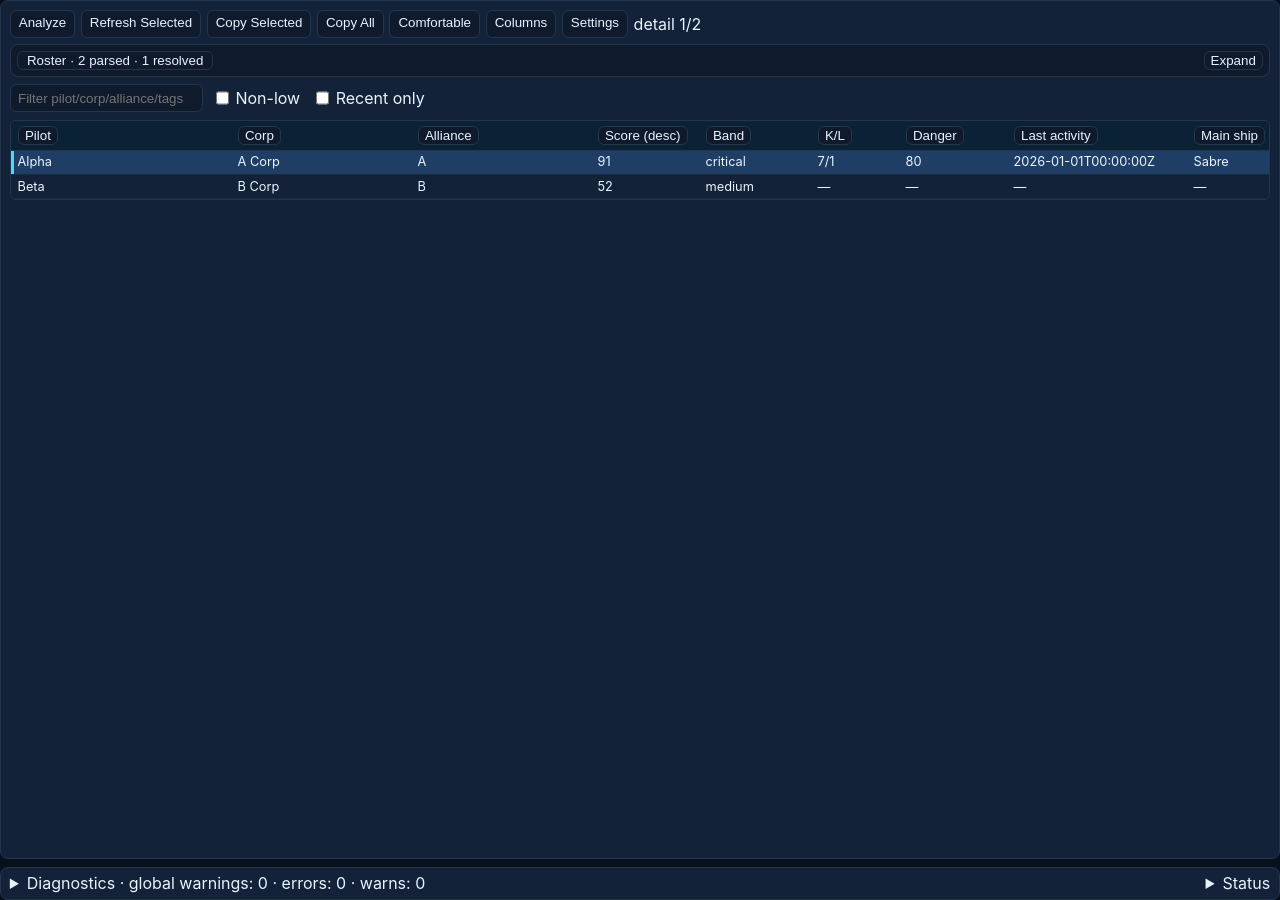
Test case: LocalScreen › drawer expands and collapses showing parse details
The width and height of the screenshot is (1280, 900).
Click the button with test id "roster-toggle": click(1233, 60) [1204,51,1263,70]
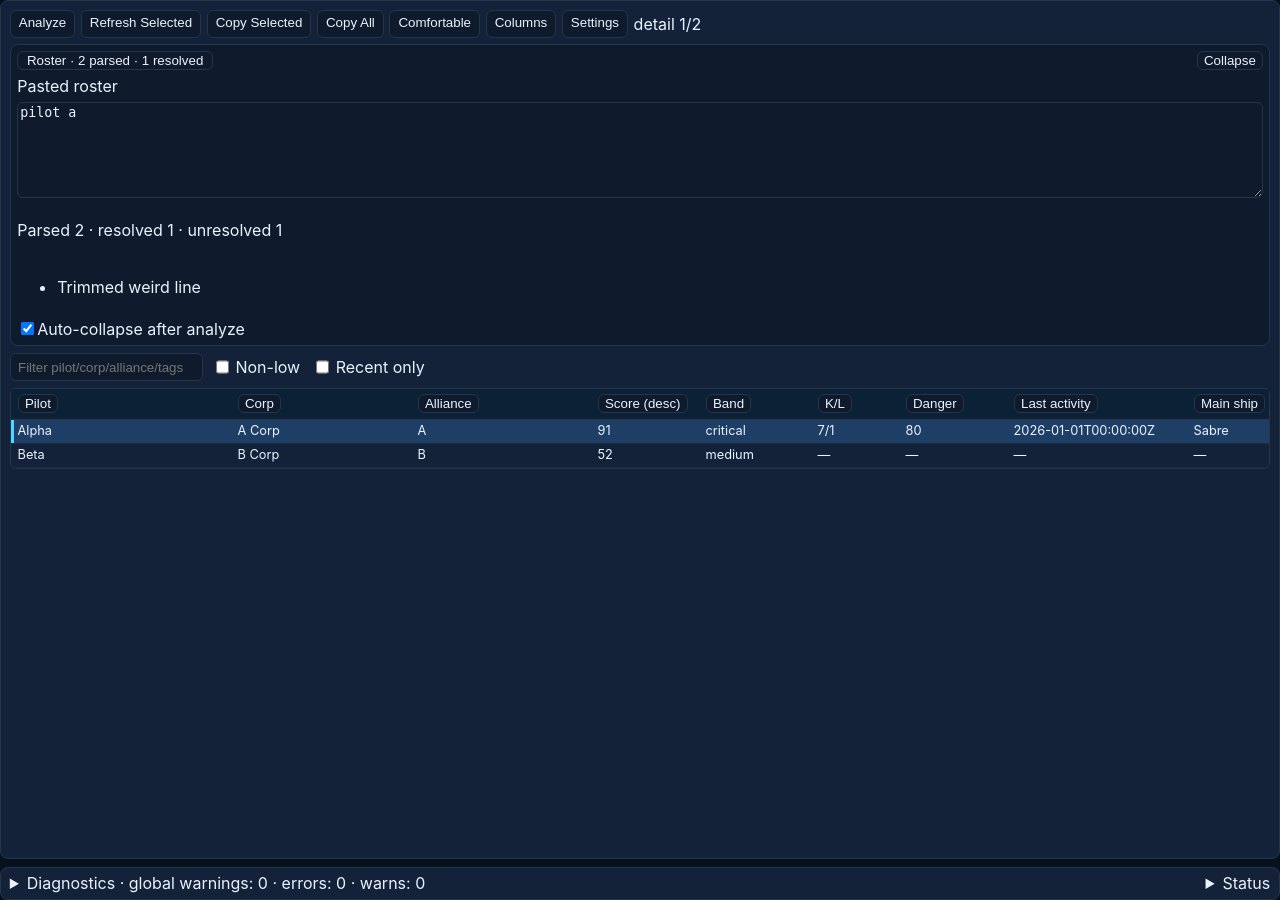
Expected: the element with test id "roster-drawer-expanded" is shown, [17,76,1263,339]
Expected: the text with test id "parse-summary" reads "Parsed 2 · resolved 1 · unresolved 1", [17,220,282,240]
Expected: the list with test id "parse-warnings-list" reads "Trimmed weird line", [57,277,201,297]
Click the button with test id "roster-toggle": click(1230, 60) [1197,51,1263,70]
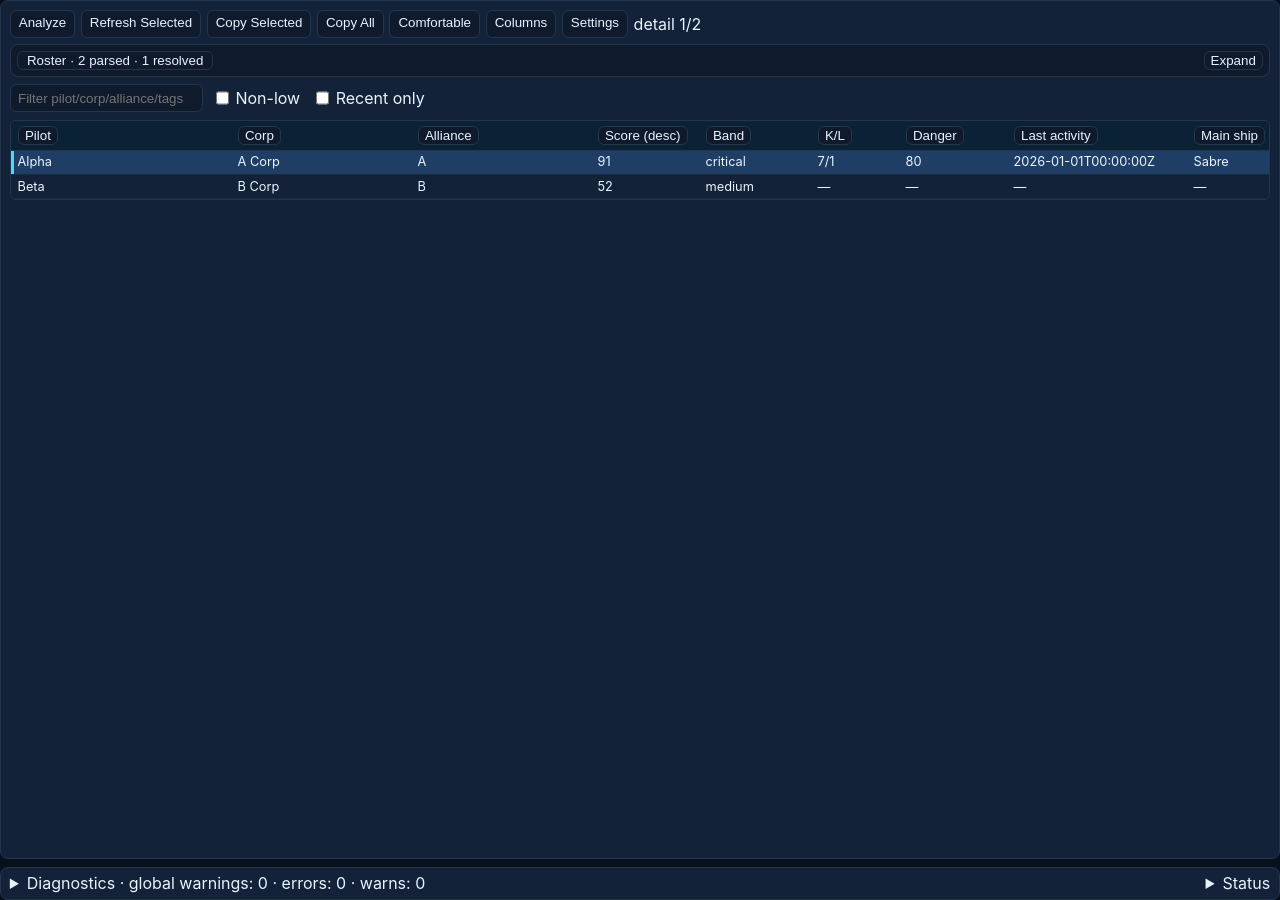
Expected: the element with test id "roster-drawer-expanded" is gone
